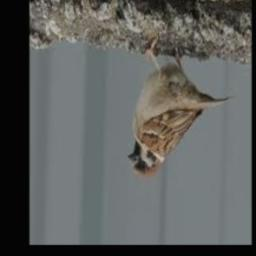Sparrow: (127, 39, 233, 177)
